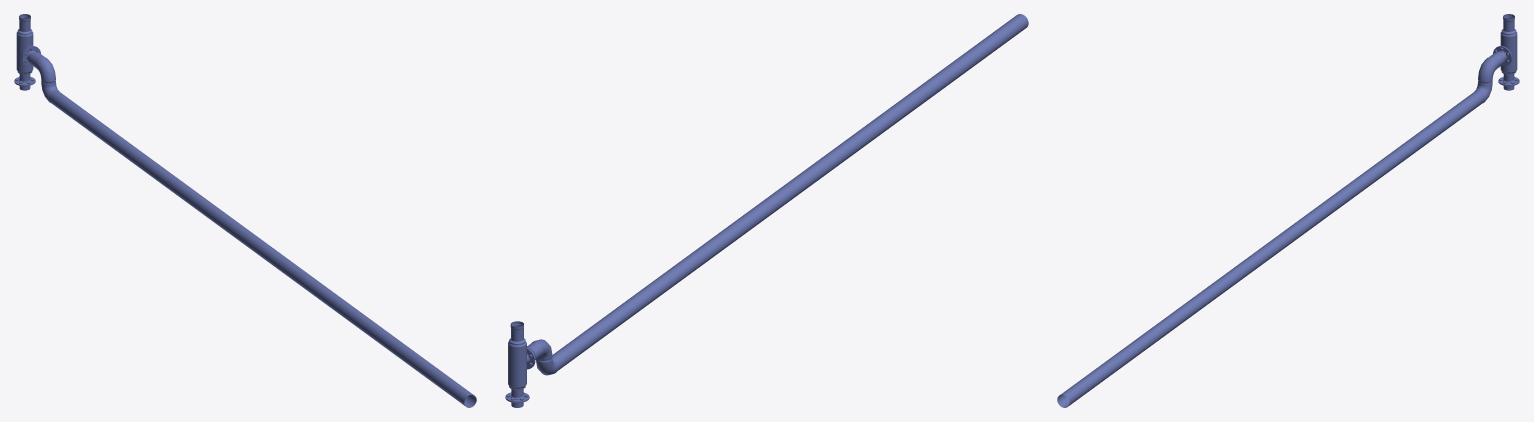
The model's file is PumpComplex-Out-2.fbx.
3 views of the same model, side by side, from view 1: azimuth 30°, elevation 25°; view 2: azimuth 150°, elevation 25°; view 3: azimuth 330°, elevation 25° (orthographic). The views are drawn at different scales.
Visible parts, largest first — view 1: PumpComplex-Out-2_Main-4, PumpComplex-Out-2_Main-3, PumpComplex-Out-2_Main-1; view 2: PumpComplex-Out-2_Main-4, PumpComplex-Out-2_Main-1, PumpComplex-Out-2_Main-3; view 3: PumpComplex-Out-2_Main-4, PumpComplex-Out-2_Main-3, PumpComplex-Out-2_Main-1.
Part boxes in pixels (x1,y1,x2,y2): PumpComplex-Out-2_Main-4: (48,90,476,407); PumpComplex-Out-2_Main-3: (29,52,59,102); PumpComplex-Out-2_Main-1: (16,29,33,74); PumpComplex-Out-2_Main-4: (552,14,1028,370); PumpComplex-Out-2_Main-1: (508,338,526,390); PumpComplex-Out-2_Main-3: (527,339,557,375); PumpComplex-Out-2_Main-4: (1057,90,1485,407); PumpComplex-Out-2_Main-3: (1474,52,1504,102); PumpComplex-Out-2_Main-1: (1500,29,1517,74).
Size of the model in its own units: 15.99 by 60 by 682.
